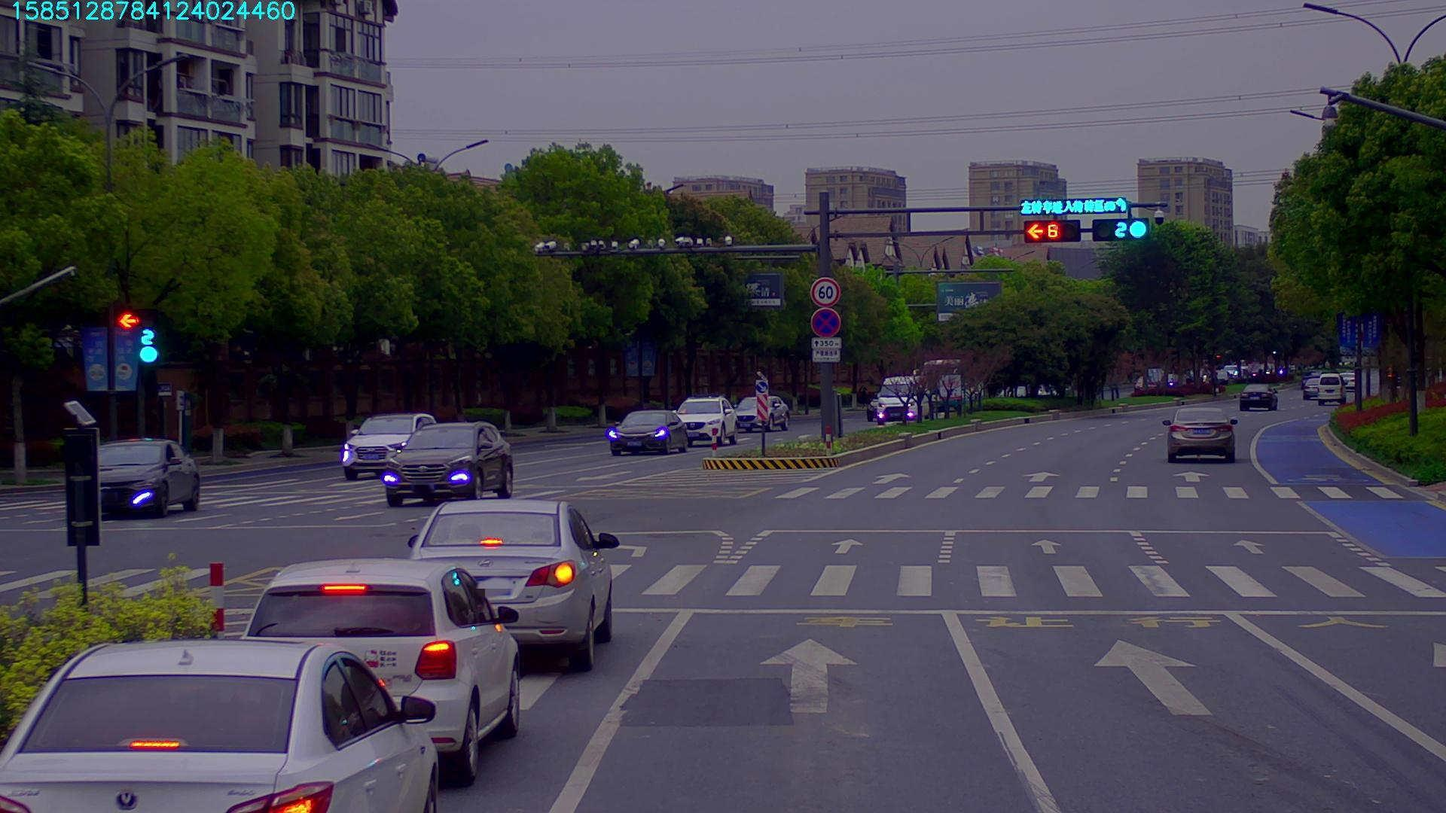green: (1094, 221, 1145, 239)
red: (1020, 224, 1076, 242)
wait_on: (1021, 198, 1131, 215)
